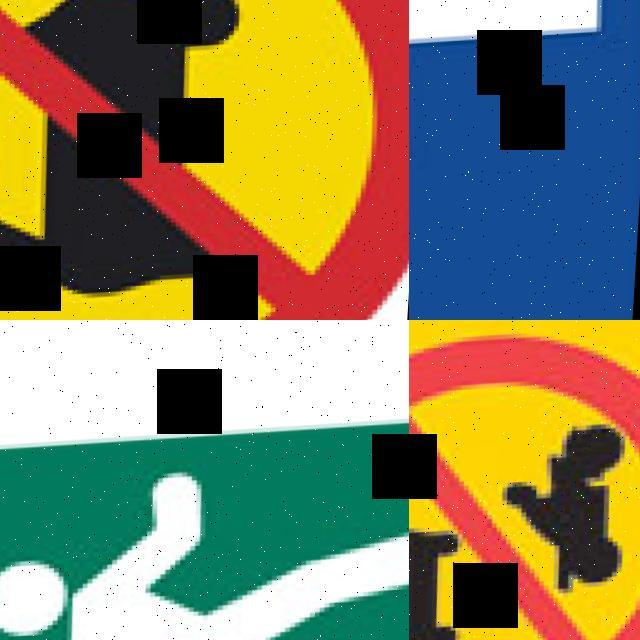45: (0, 0, 409, 320)
82: (409, 320, 640, 640)
86: (409, 0, 640, 320)
exit: (0, 320, 409, 640)
